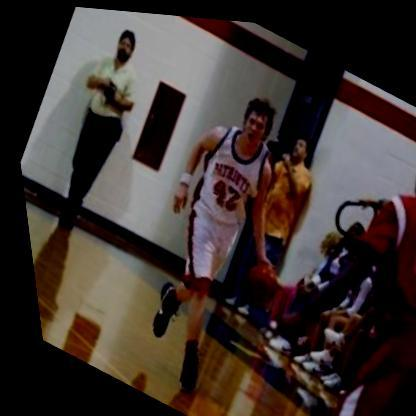basketball: (221, 244, 287, 315)
